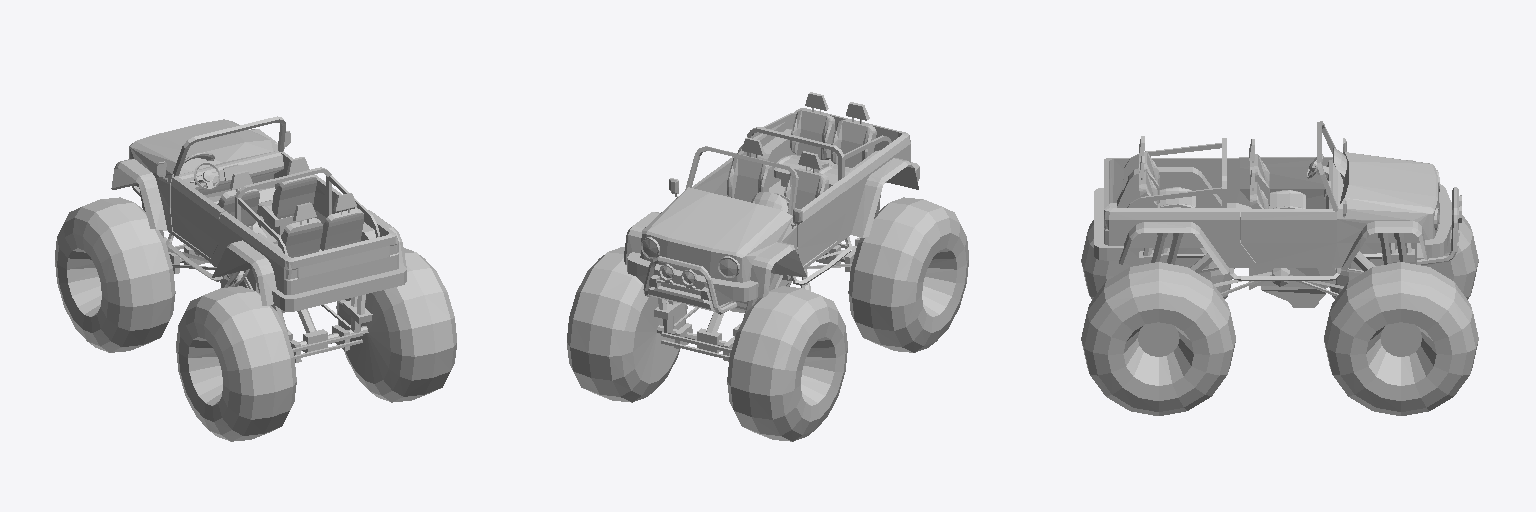
Rendered from monster truck 3d model.obj.
3 views of the same model, side by side, from view 1: azimuth 30°, elevation 25°; view 2: azimuth 150°, elevation 25°; view 3: azimuth 270°, elevation 25° (orthographic).
Parts seen in each view (by area): view 1: monster truck upper, wheel lb, wheel lf, wheel rb, monster truck lower, door l, door r; view 2: monster truck upper, wheel lf, wheel lb, wheel rf, monster truck lower, door l, door r; view 3: monster truck upper, wheel rf, wheel rb, door r, monster truck lower, door l, wheel lf, wheel lb.
Part boxes in pixels (x1,y1,x2,y2): monster truck upper: (111,116,406,311); wheel lb: (176,286,296,441); wheel lf: (55,197,175,352); wheel rb: (336,247,456,402); monster truck lower: (140,191,372,362); door l: (171,176,224,257); door r: (274,151,325,223); monster truck upper: (624,92,919,314); wheel lf: (727,286,847,441); wheel lb: (848,197,968,352); wheel rf: (567,247,687,402); monster truck lower: (654,195,880,361); door l: (797,180,845,265); door r: (692,157,733,196); monster truck upper: (1094,121,1461,280); wheel rf: (1324,262,1478,415); wheel rb: (1081,262,1235,415); door r: (1240,208,1336,263); monster truck lower: (1139,233,1414,307); door l: (1239,157,1332,208); wheel lf: (1329,202,1478,299); wheel lb: (1081,220,1234,299).
Size of the model in its own units: 142 by 138 by 217.